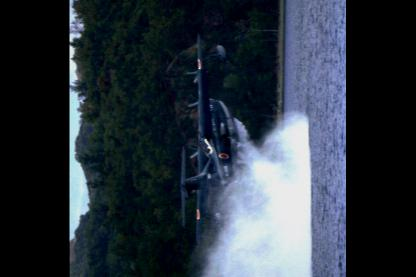Tu95: (180, 34, 238, 246)
